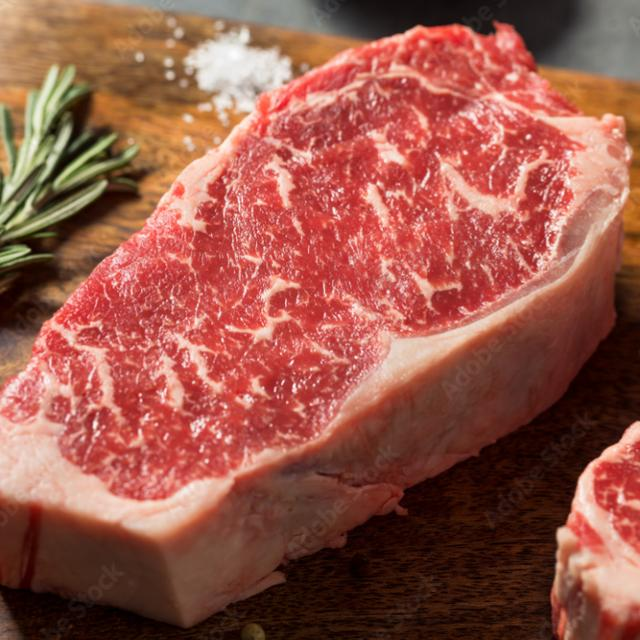Beef: (0, 25, 634, 629)
